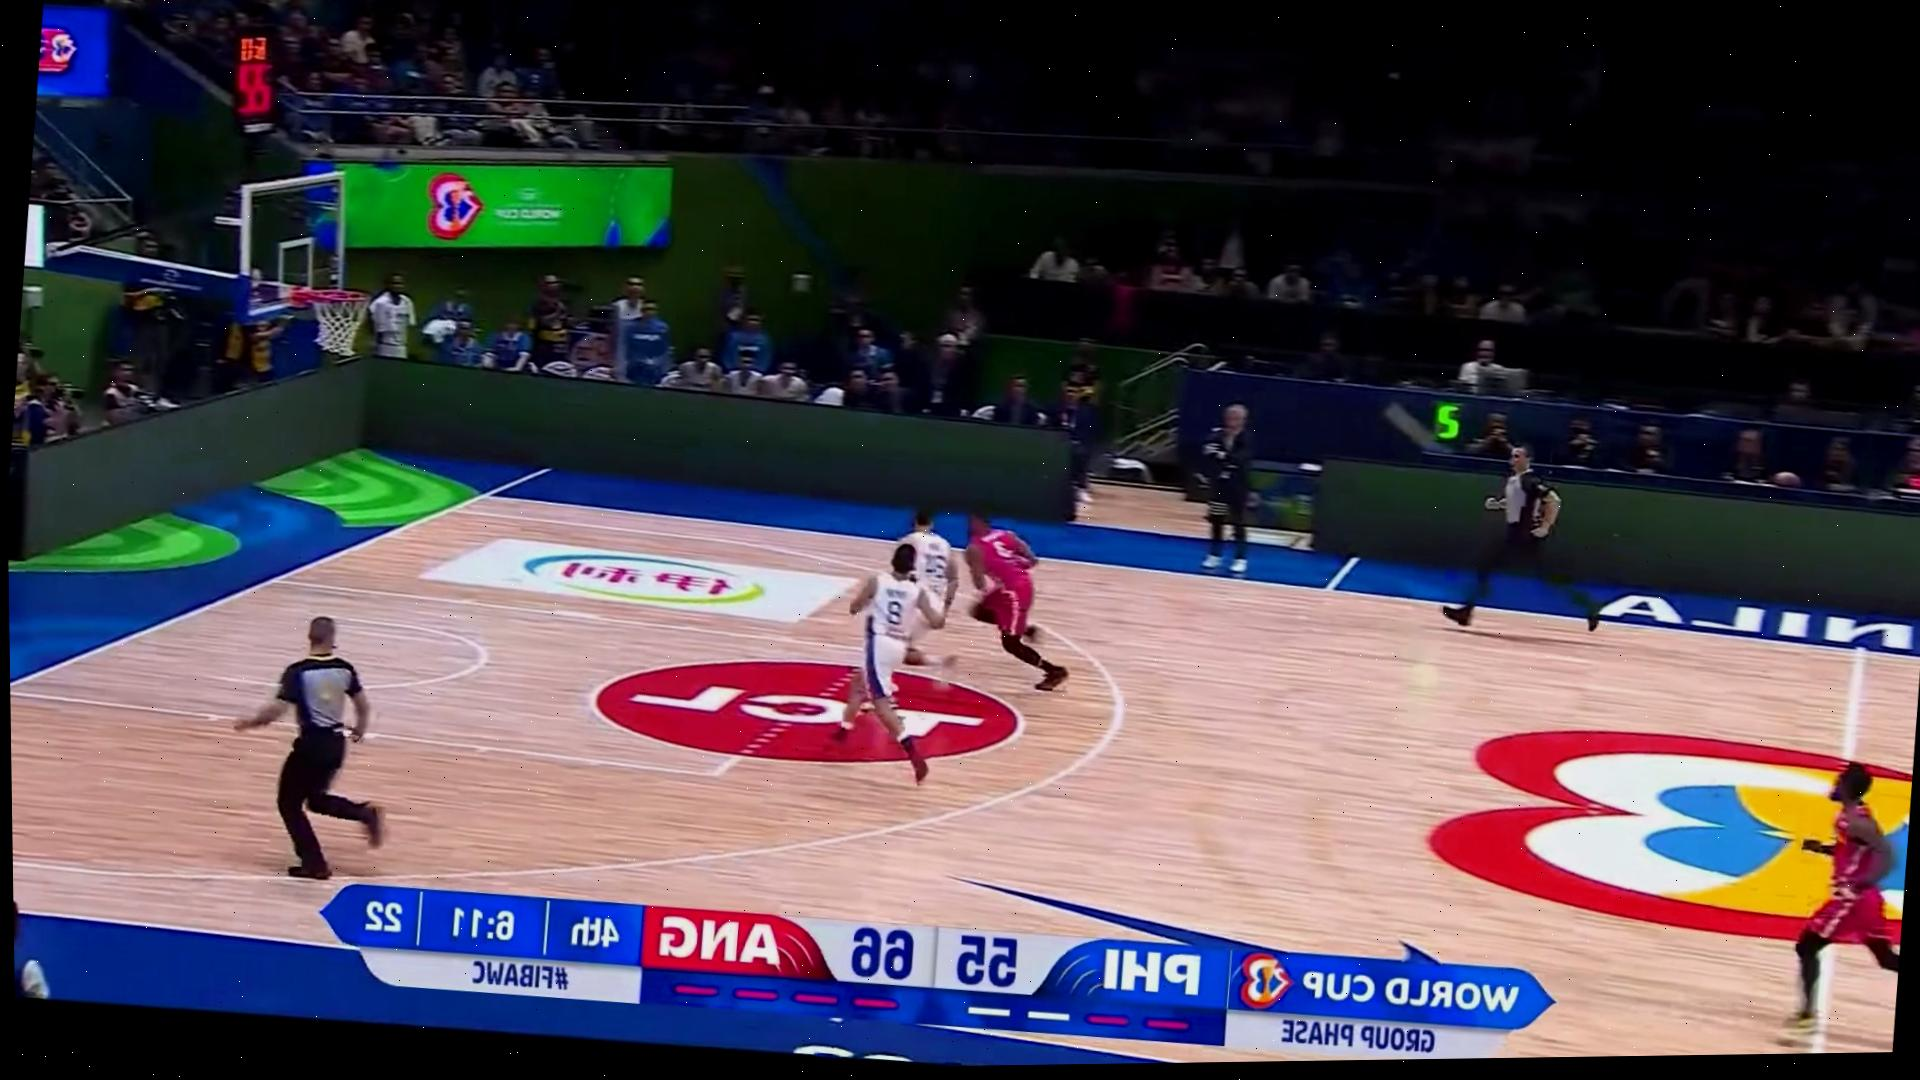no_foul: (827, 488, 1068, 769)
